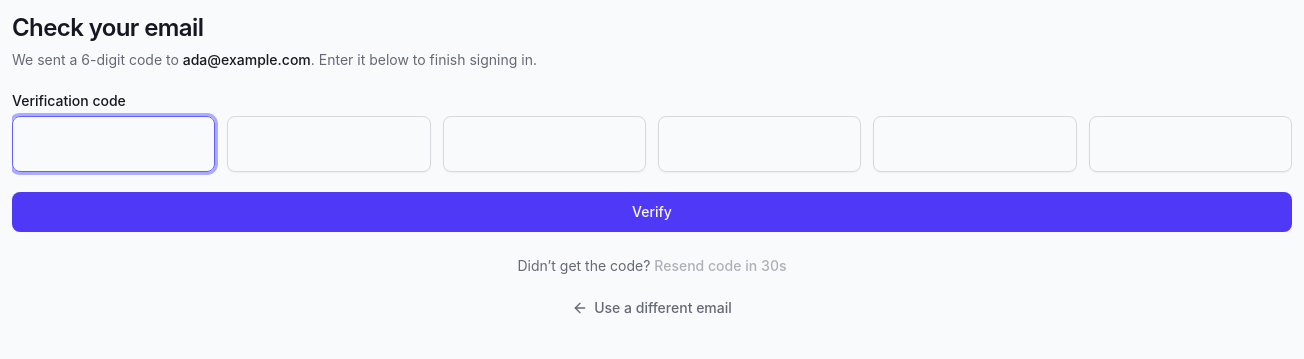
Test: OneTimeCodeForm › asks for every digit when the code is incomplete
The image size is (1304, 359).
Type keys "123"
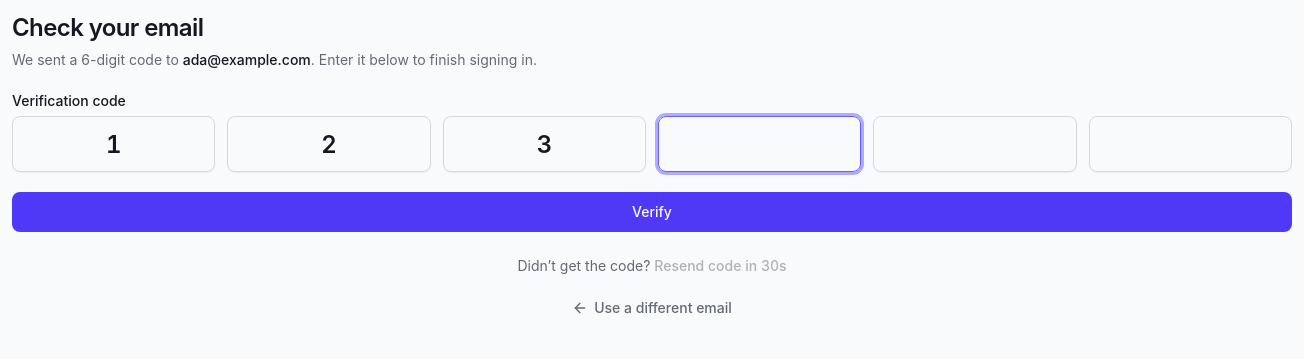
Click the button "Verify" at (652, 212), box [12, 192, 1292, 232]
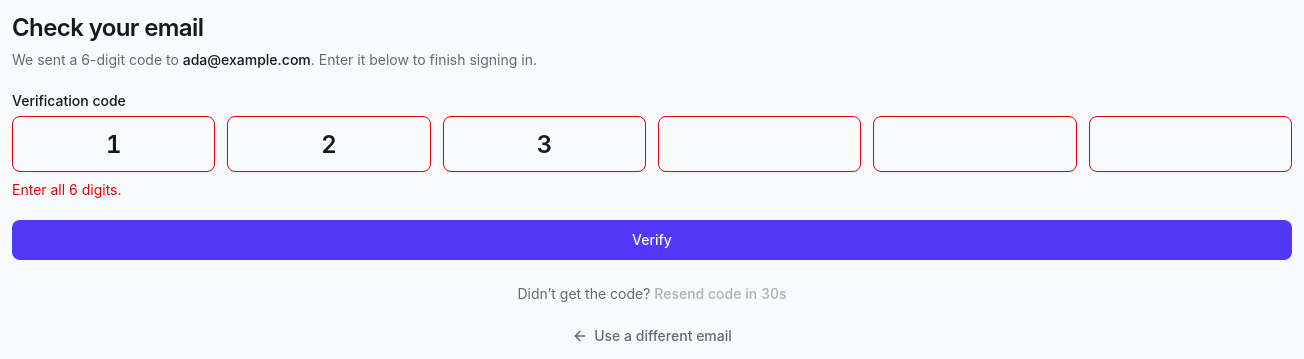
Now the text "Enter all 6 digits." is shown, box [12, 181, 122, 198]
